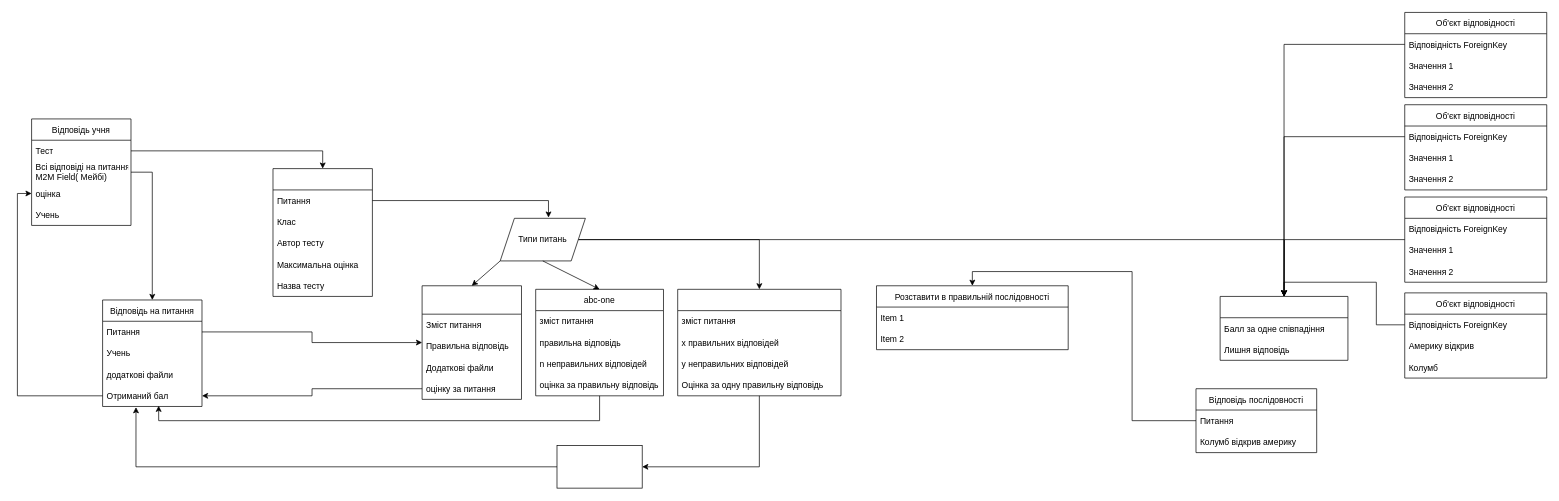
The diagram is 1559 pixels wide and 501 high, and some of its shapes have lost their labels. The shapes that lost their labels are listed below. From the top down, each one's box as (x1, y1, x2, y2) in pixels, then its label:
(272, 168, 372, 296): Тести
(421, 285, 521, 399): відкритого типу
(677, 289, 841, 396): abc-many
(1219, 296, 1348, 360): Відповідність
(556, 445, 642, 488): Сума балів за правильні відповіді
